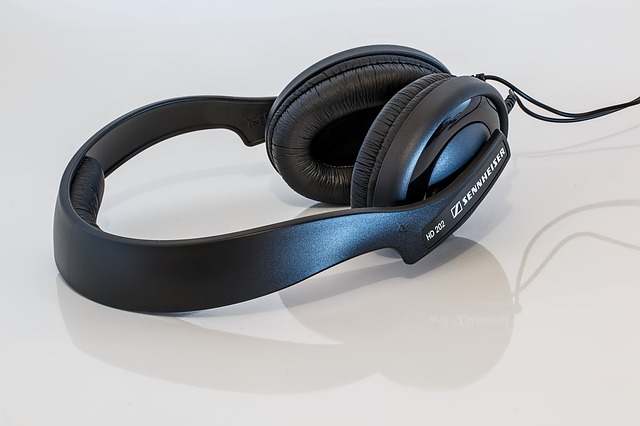headphones: (54, 45, 511, 315)
